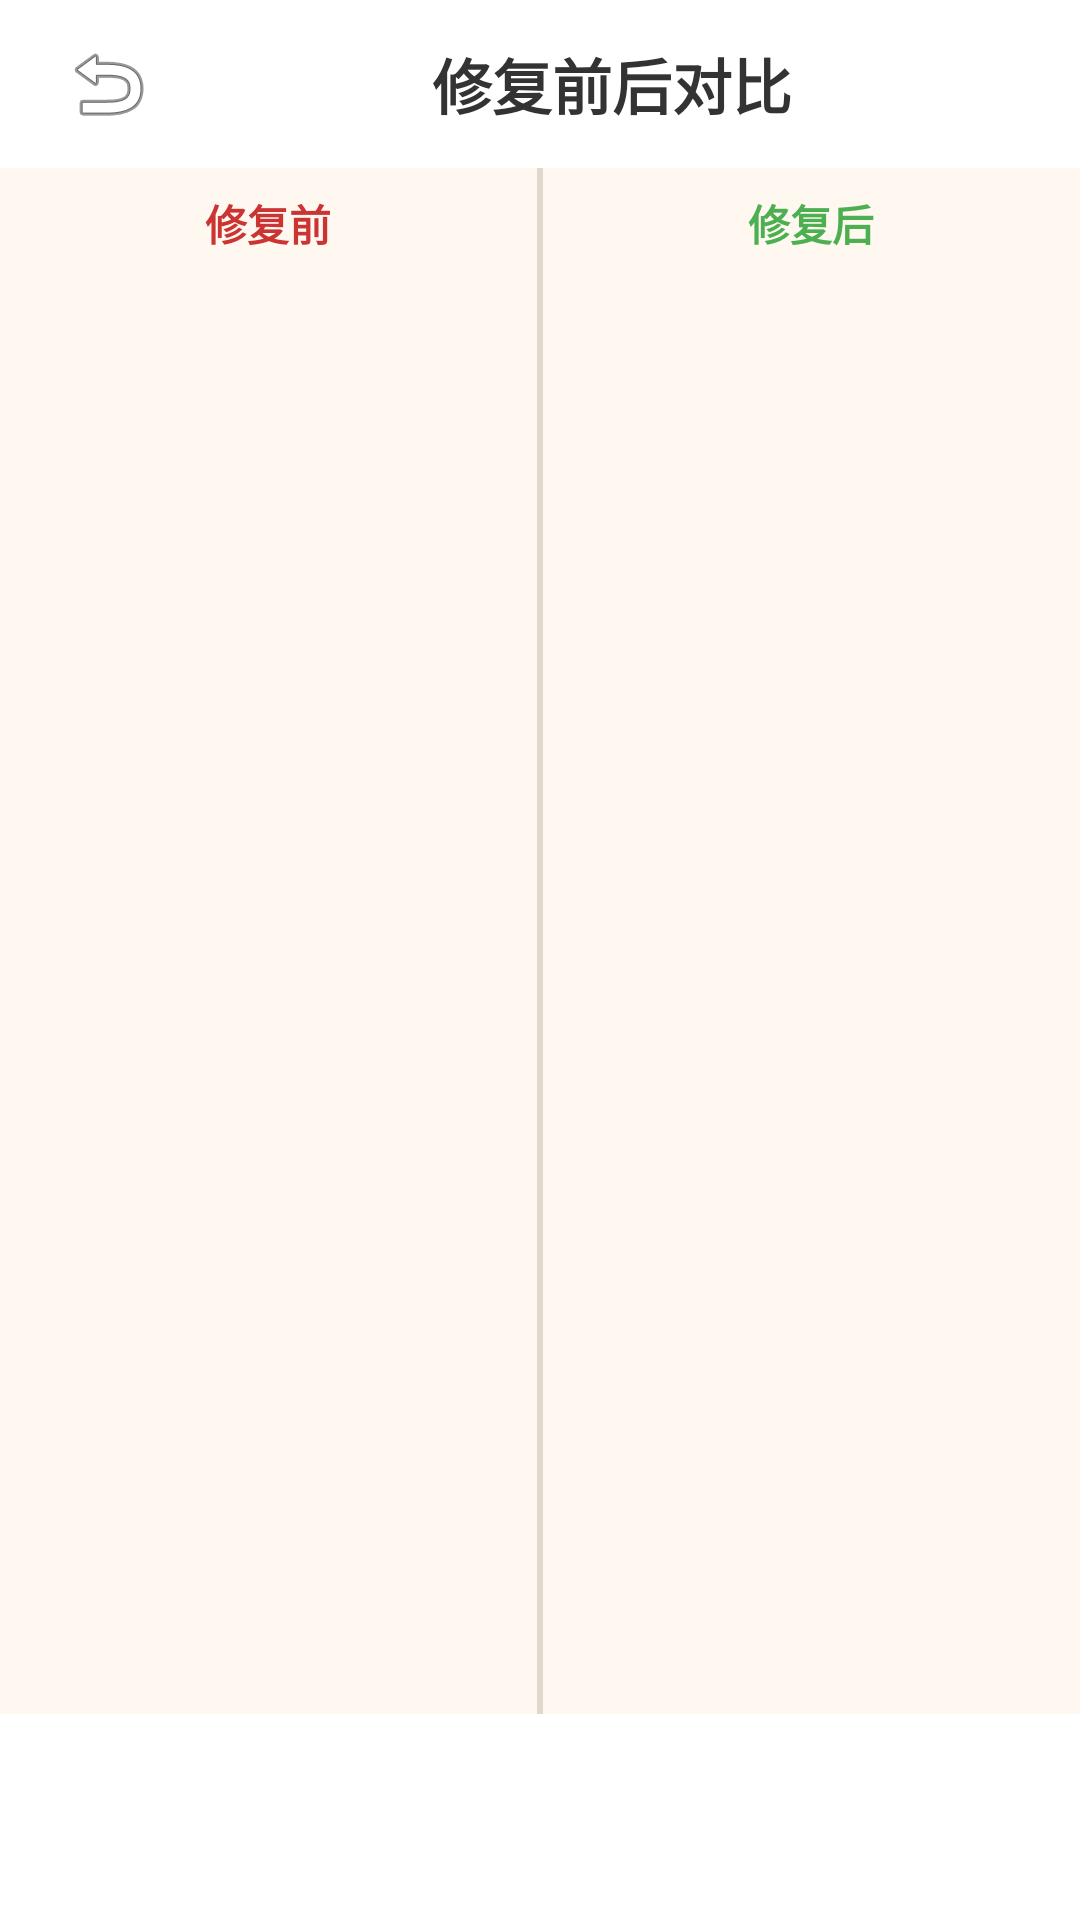

Screen size 1080px x 1920px. Icon name, then its center in pixels as [x,y]:
revert: [109,84]
